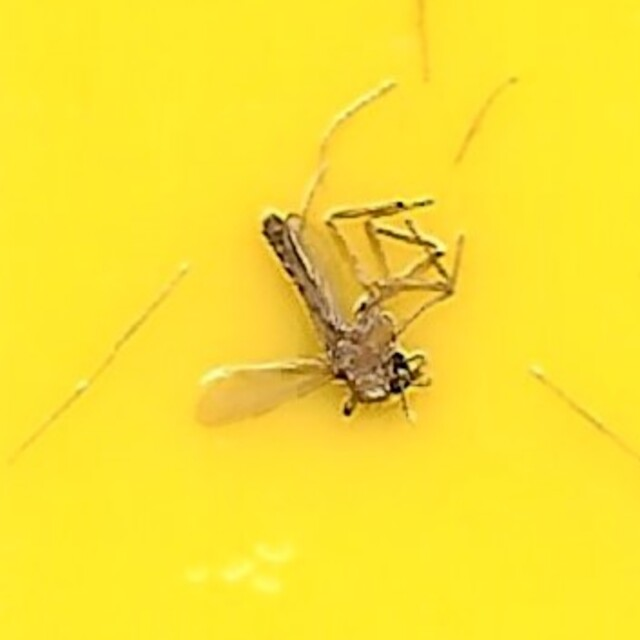Nematocera: (181, 198, 459, 442)
